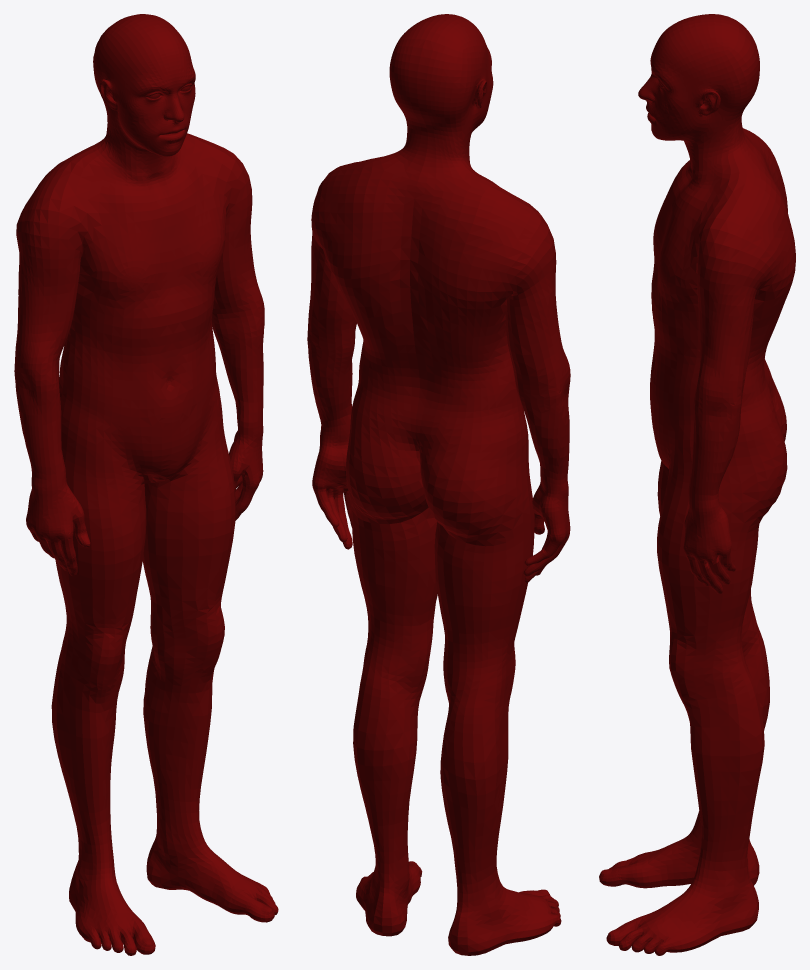
The model's file is pose_original_5.obj.
3 views of the same model, side by side, from view 1: azimuth 30°, elevation 25°; view 2: azimuth 150°, elevation 25°; view 3: azimuth 270°, elevation 25° (orthographic). The views are drawn at different scales.
Size of the model in its own units: 0.8683 by 3.02 by 0.6065.
